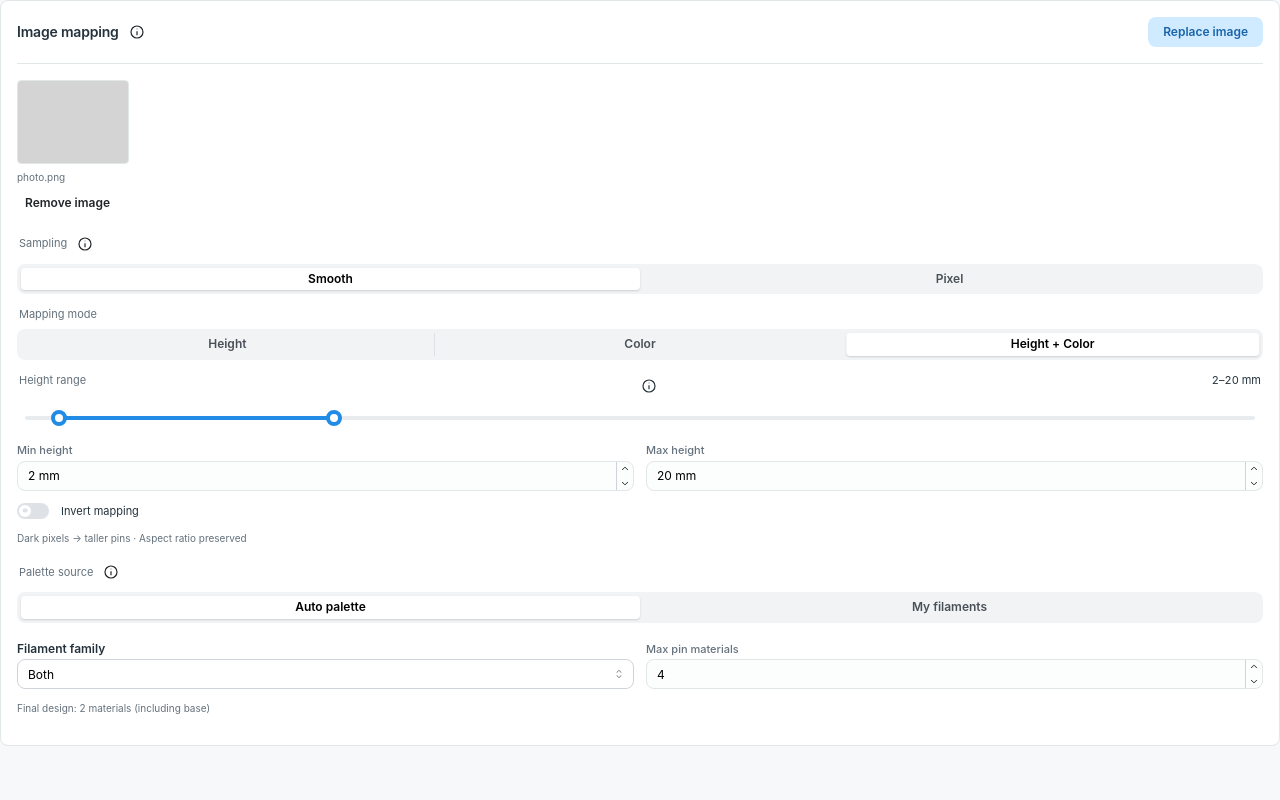
Test: image mapping controls › replaces invalid drafts when a height thumb is moved
Replace the text in the field labelled "Min height" with "30" at point(326, 476), box [17,460,634,490]
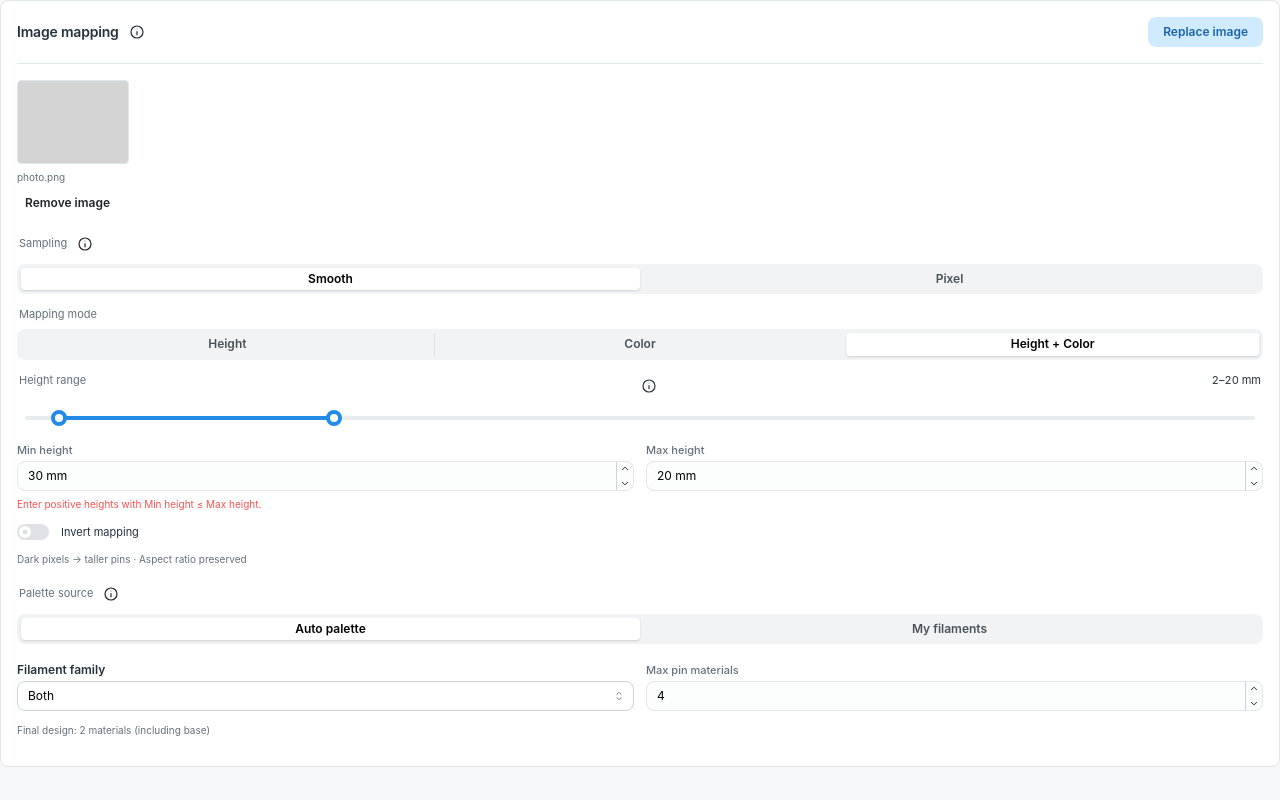
Focus the slider named "Maximum mapped height" at point(334, 418), box [326,410,342,426]
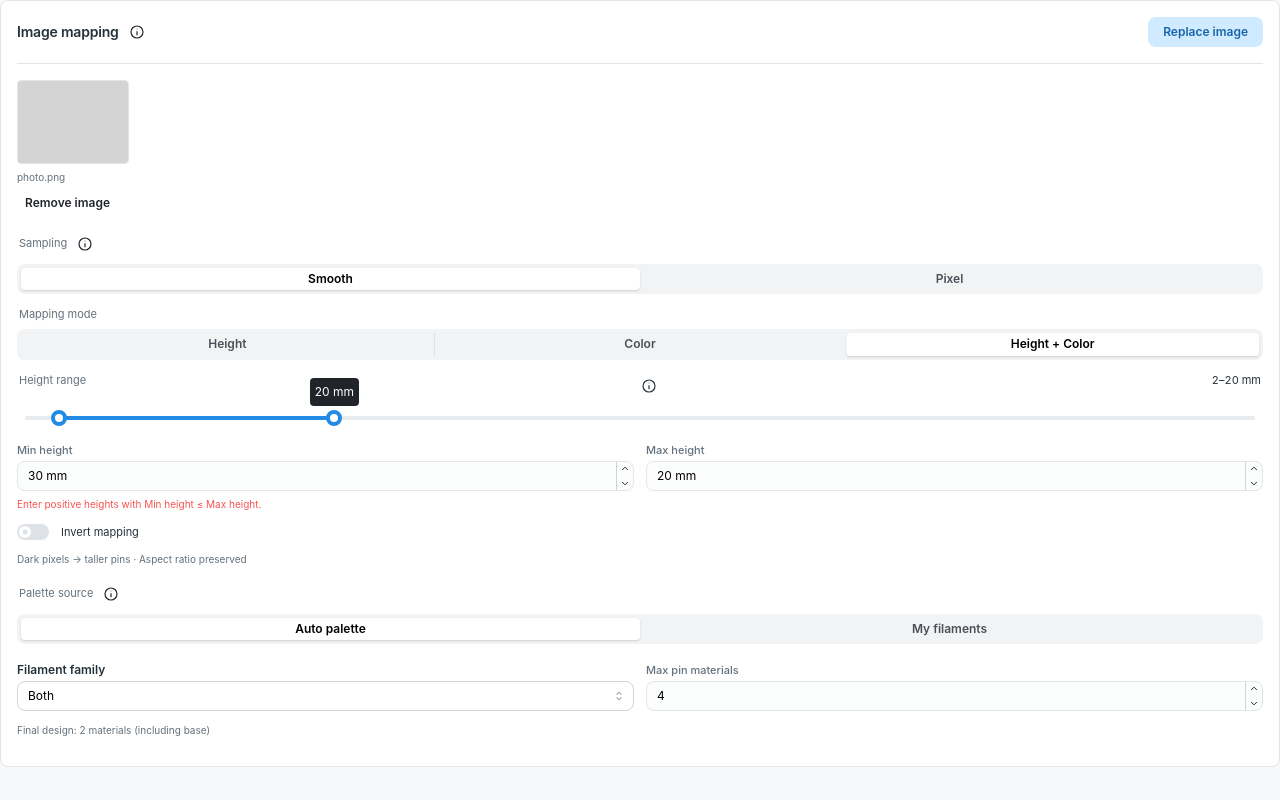
Press ArrowLeft in the slider named "Maximum mapped height", box [326,410,342,426]
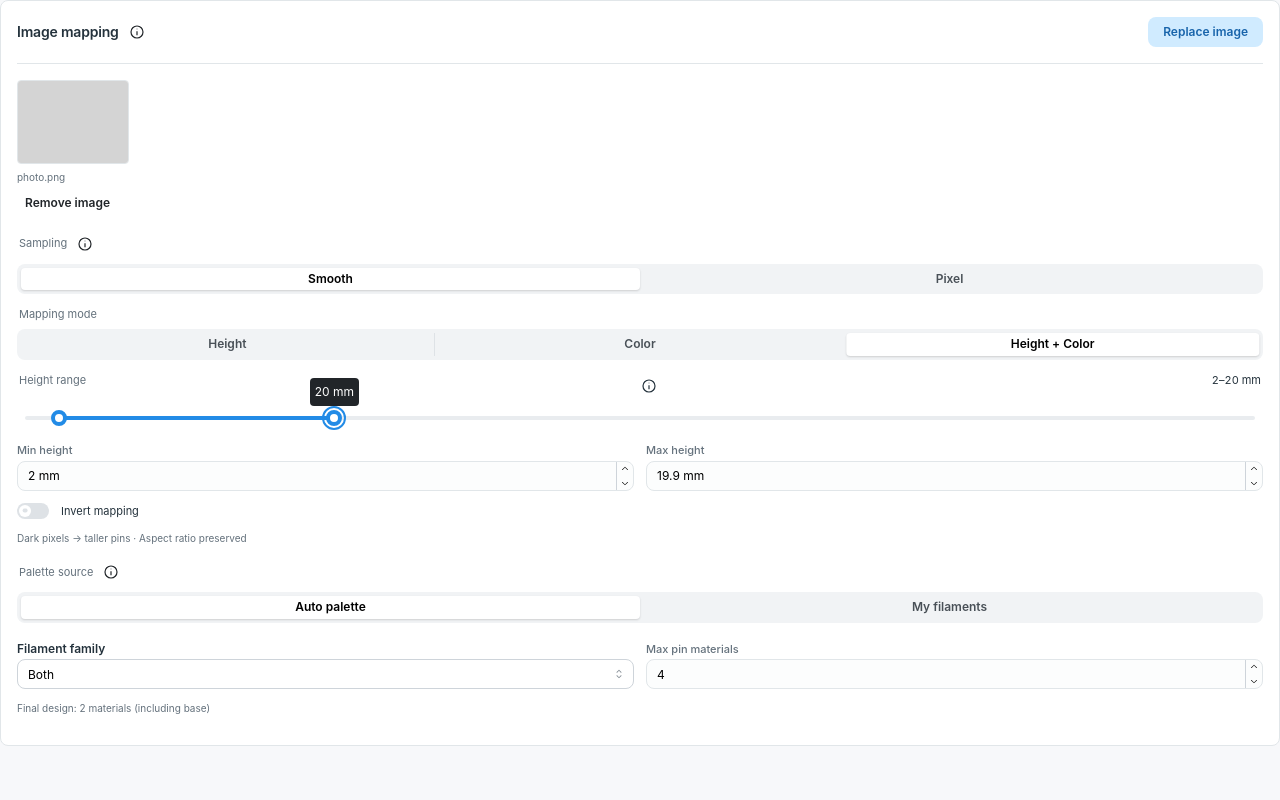
expect the field labelled "Min height" holds "2 mm": met, box [17,460,634,490]
expect the field labelled "Max height" holds "19.9 mm": met, box [646,460,1263,490]
